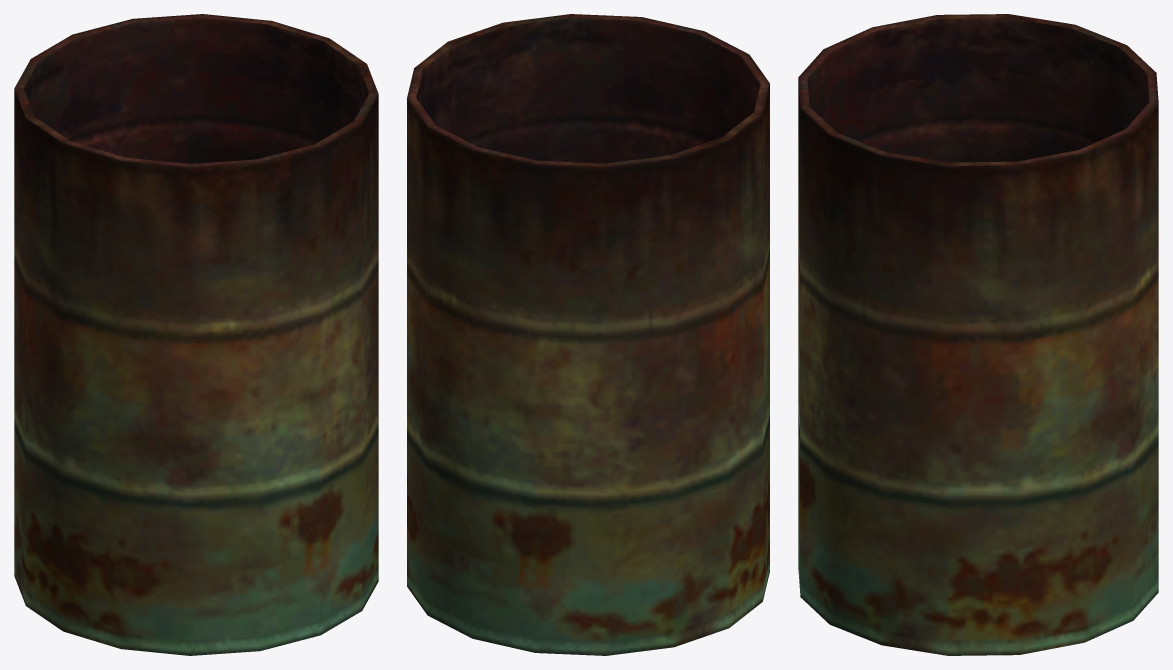
The model's file is od_single_open_upright_orange.fbx.
The picture shows the model from 3 angles, left to right: view 1: azimuth 30°, elevation 25°; view 2: azimuth 150°, elevation 25°; view 3: azimuth 270°, elevation 25°; orthographic projection.
Visible parts, largest first — view 1: mesh_0; view 2: mesh_0; view 3: mesh_0.
Part boxes in pixels (left/top/right/bottom): mesh_0: left=14, top=14, right=378, bottom=655; mesh_0: left=407, top=14, right=769, bottom=655; mesh_0: left=798, top=14, right=1158, bottom=655.
Bounding box in the file's own units: 58.87 × 88.26 × 58.87.
1 material, 1 textured.
